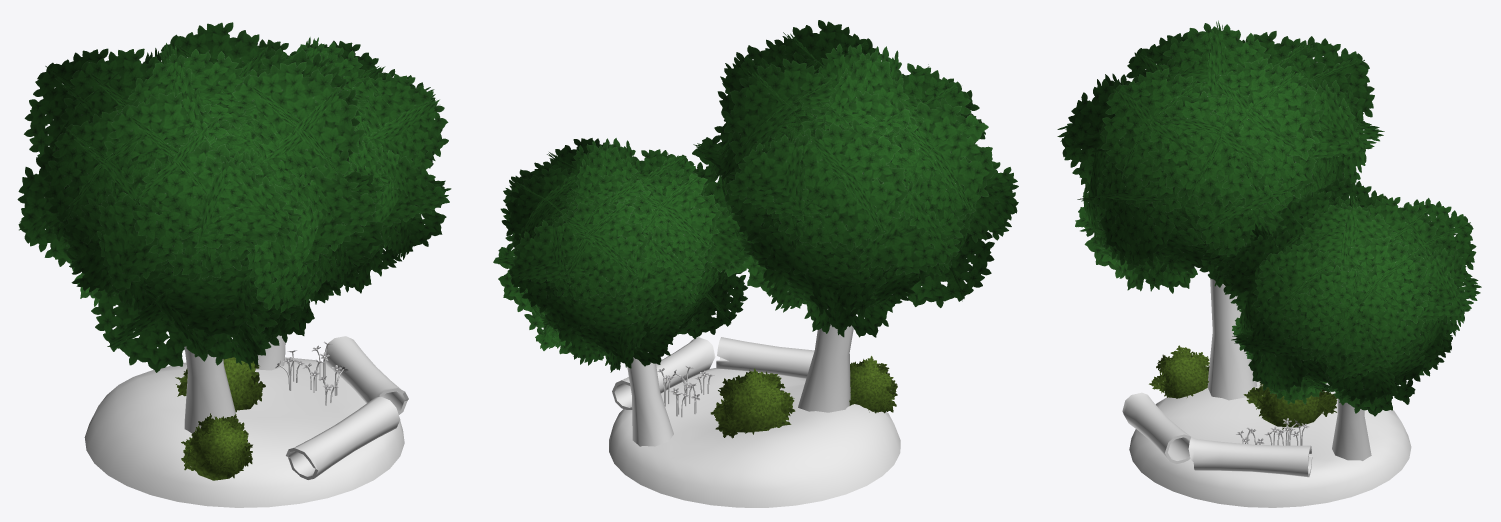
The model's file is Diorama.fbx.
3 renders of one model, left to right at view 1: azimuth 30°, elevation 25°; view 2: azimuth 150°, elevation 25°; view 3: azimuth 270°, elevation 25°, orthographic. The views are drawn at different scales.
Parts seen in each view (by area): view 1: Diorama; view 2: Diorama; view 3: Diorama.
Part boxes in pixels (left/top/right/bottom): Diorama: left=17, top=22, right=451, bottom=507; Diorama: left=493, top=20, right=1018, bottom=507; Diorama: left=1057, top=20, right=1481, bottom=507.
Size of the model in its own units: 9.94 by 9.04 by 9.08.
